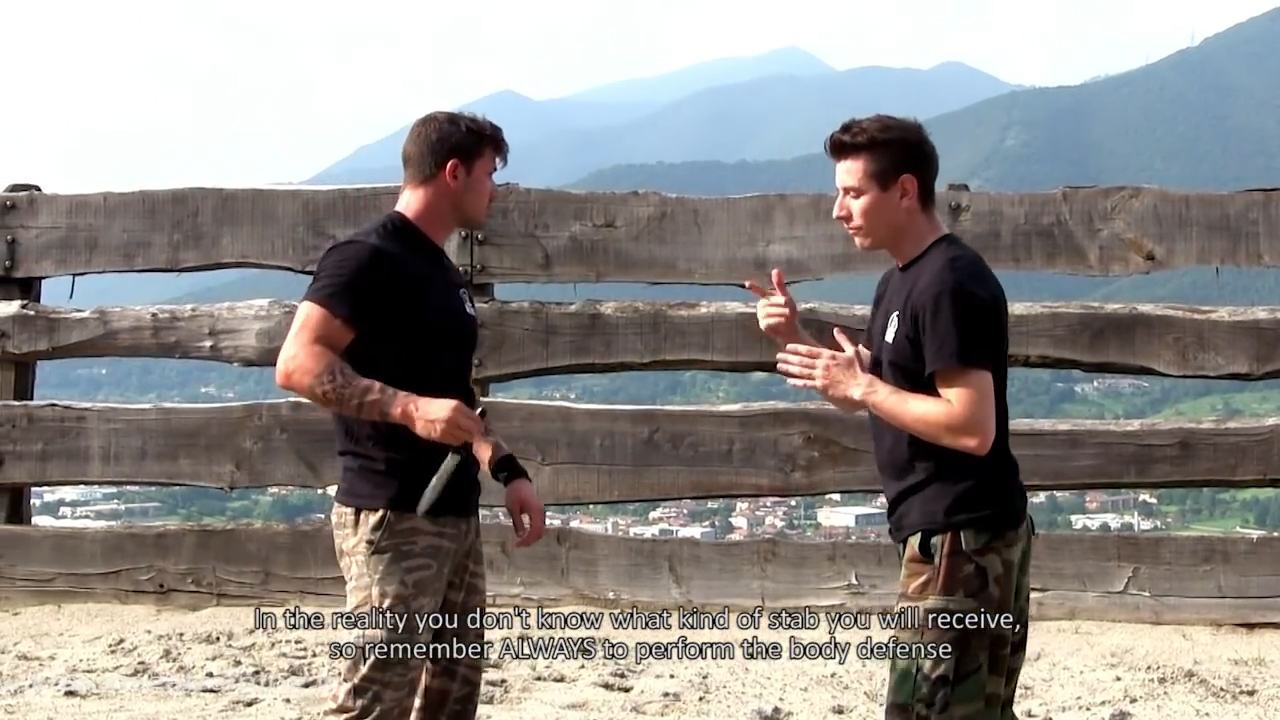knife: (408, 401, 489, 524)
